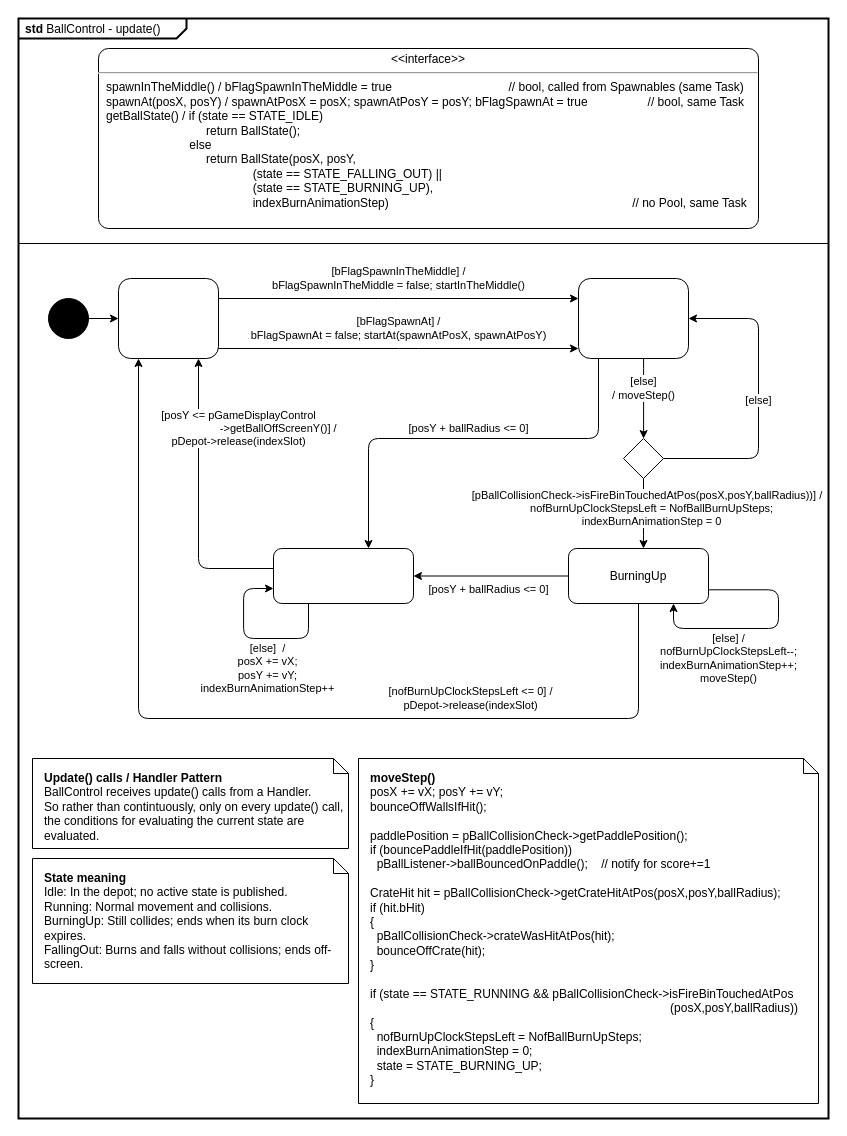
The diagram is 847 pixels wide and 1136 high, and some of its shapes have lost their labels. Here are the shapes that lost their labels. From the top down, the centre of each, then its label:
At pixel 168 318: "Idle".
At pixel 633 318: "Running".
At pixel 343 576: "FallingOut".
